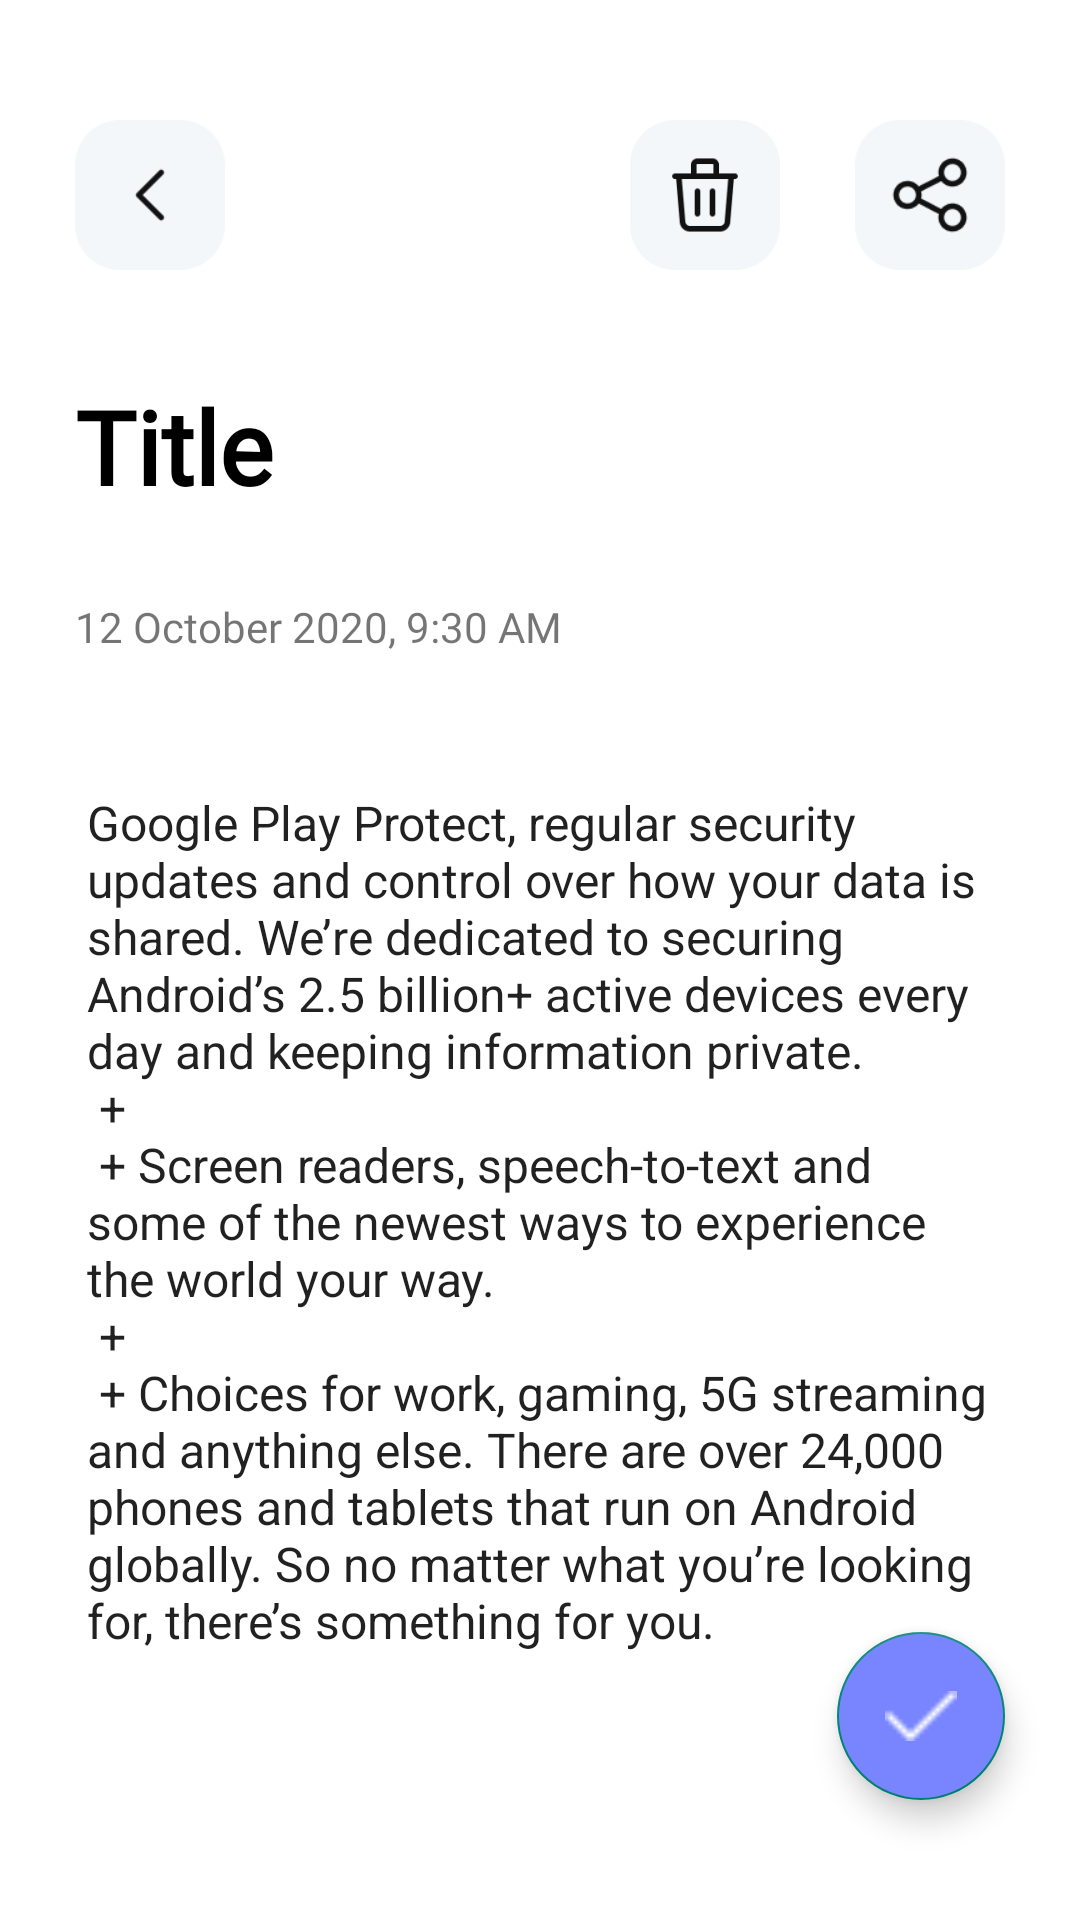

Named icons in this screenshot (1080px x 1920px) and their centers, (x=x, y=y):
back: (x=150, y=195)
recycle bin: (x=705, y=195)
save: (x=921, y=1716)
